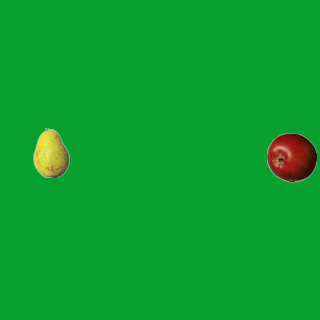Apple Braeburn: (266, 132, 316, 182)
Pear Monster: (26, 127, 76, 177)
